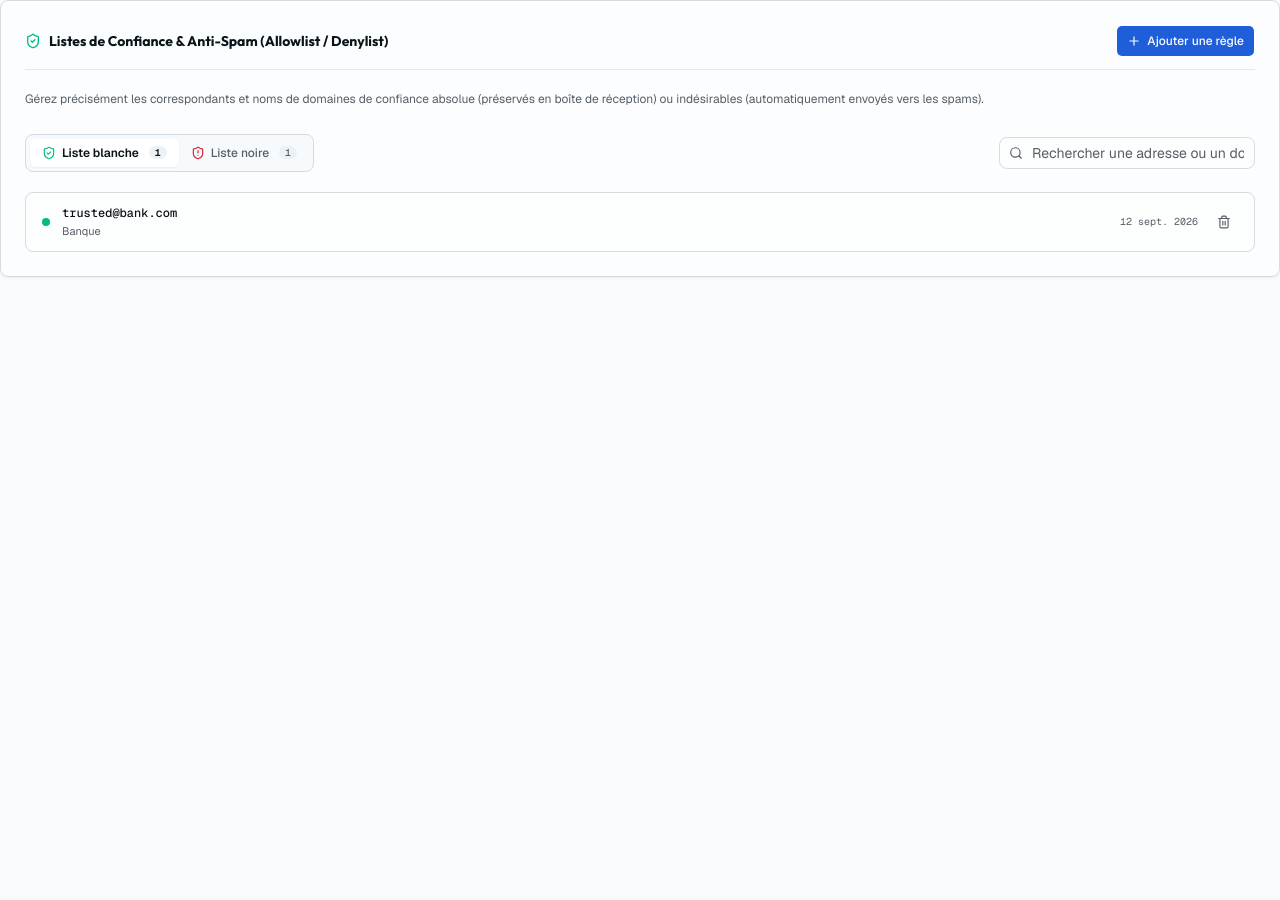
Test: SenderListsSettings › ouvre la modale d'ajout au clic sur 'Ajouter une règle'
Click the button "Ajouter une règle" at (1186, 41), box [1116,25,1255,57]
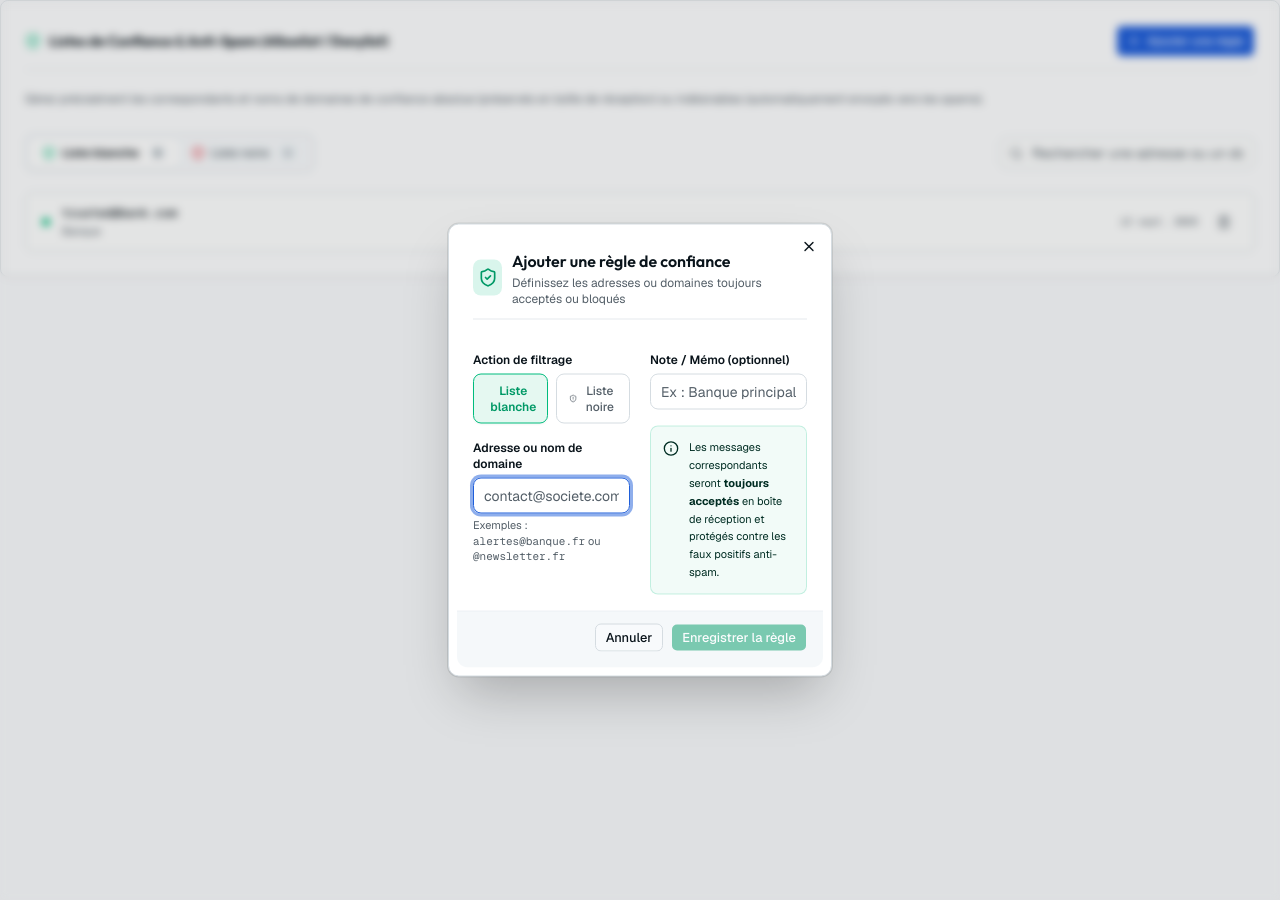
Expected: the heading "Ajouter une règle de confiance" is shown, [512,250,730,270]
Expected: the field labelled "Adresse ou nom de domaine" is shown, [473,478,630,514]
